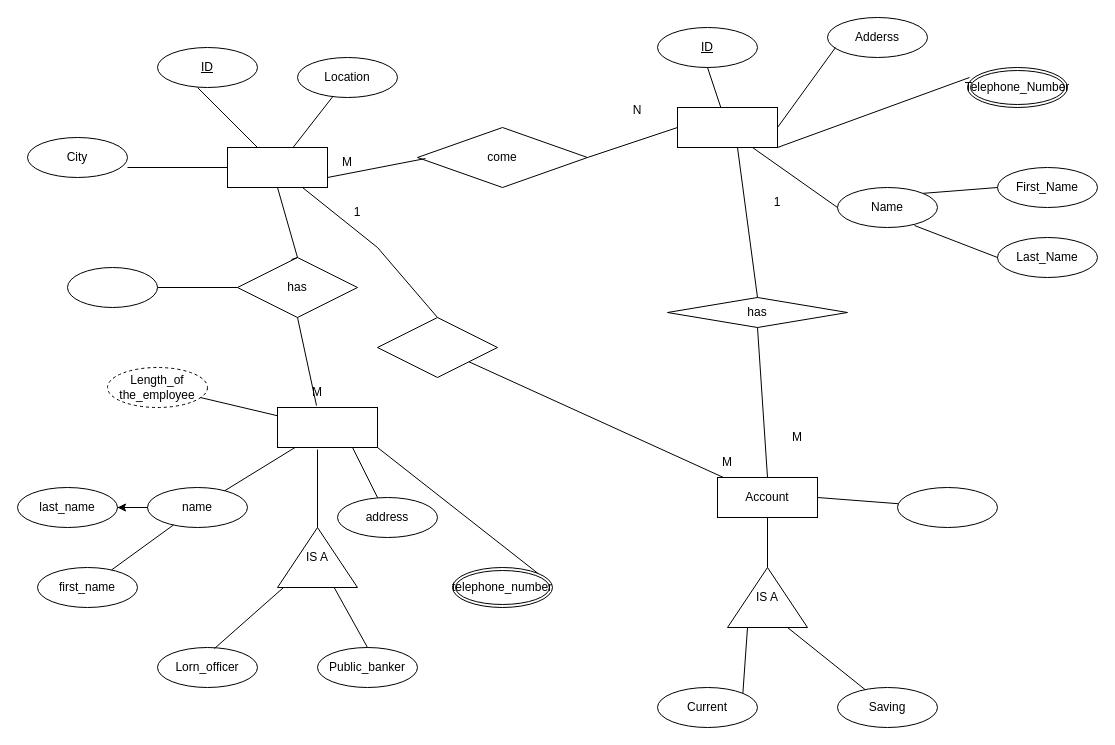
This 1115x745 diagram has some shape labels left out. The shapes that lost their labels are listed below. From the top down, each one's centre as x and y in pixels, then its label:
At (x=727, y=127): "custemer".
At (x=277, y=167): "Branch".
At (x=112, y=287): "start_day".
At (x=437, y=347): "offer".
At (x=327, y=427): "Employee".
At (x=947, y=507): "Account_number".
